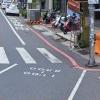crosswalks: (0, 46, 66, 64)
